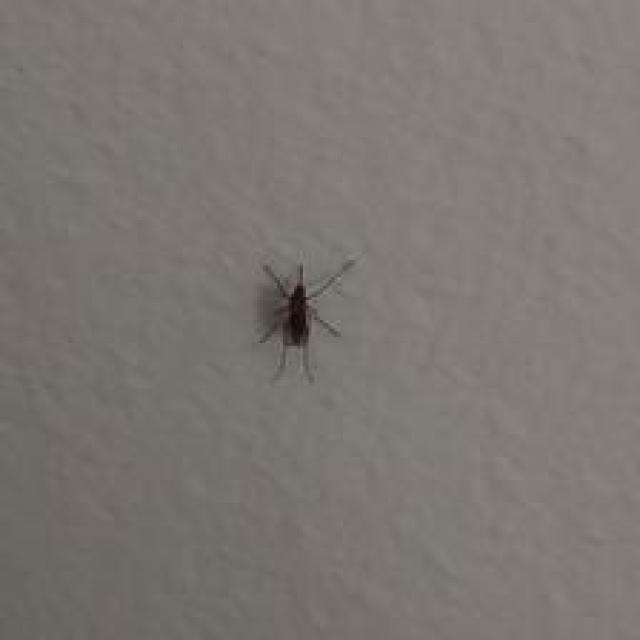Culex: (254, 253, 357, 384)
